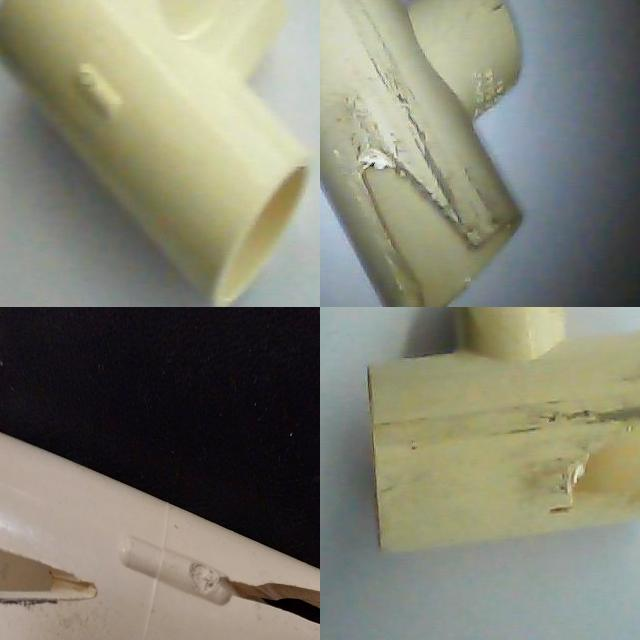Defective: (352, 156, 478, 299), (571, 427, 640, 525), (87, 505, 124, 640)
T Joint: (367, 307, 640, 556), (320, 0, 524, 307), (54, 497, 246, 640)
